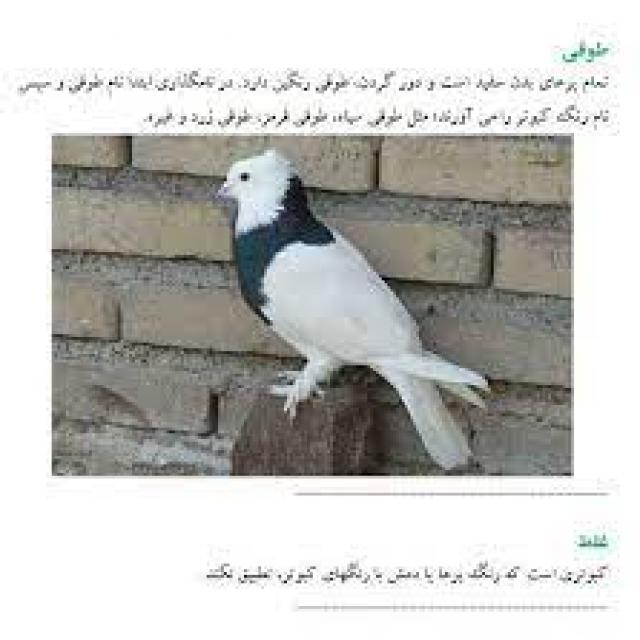bird: (216, 146, 492, 467)
